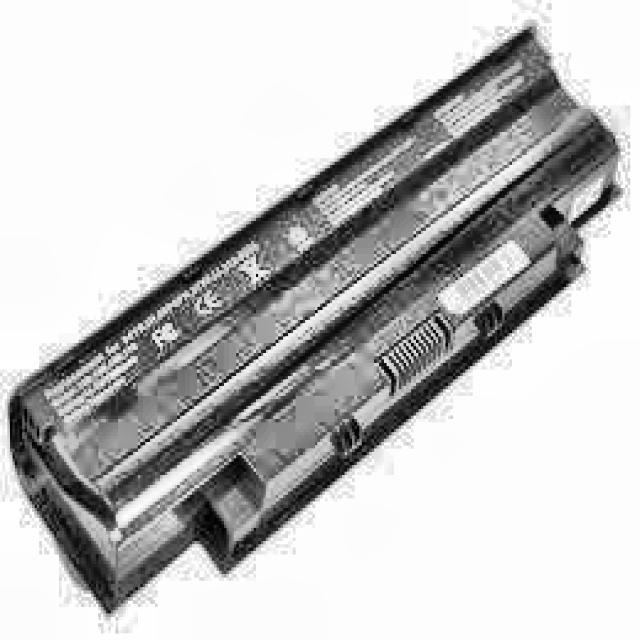Battery: (10, 40, 618, 610)
